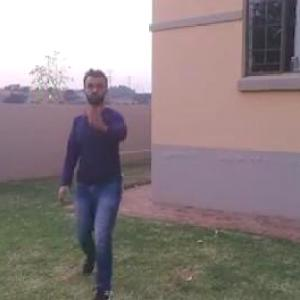takeoff-hand: (80, 96, 112, 134)
